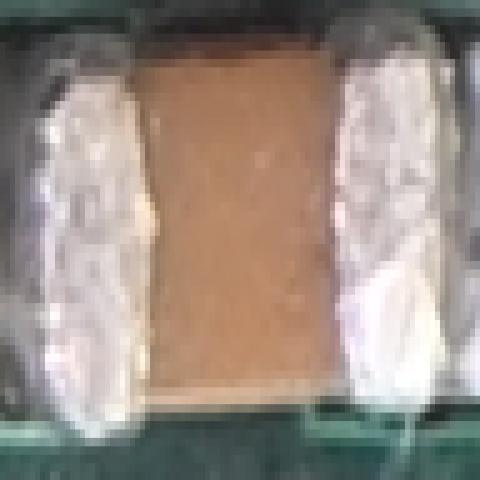Capacitor: (30, 56, 448, 428)
